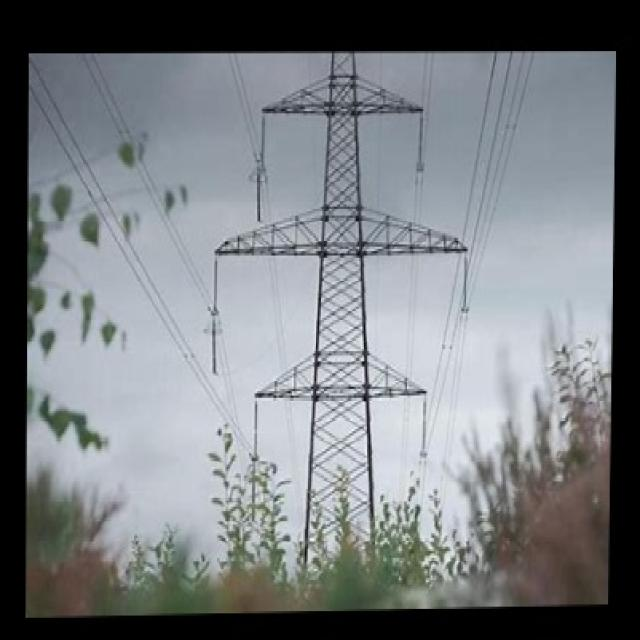utility poles: (216, 377, 453, 606)
